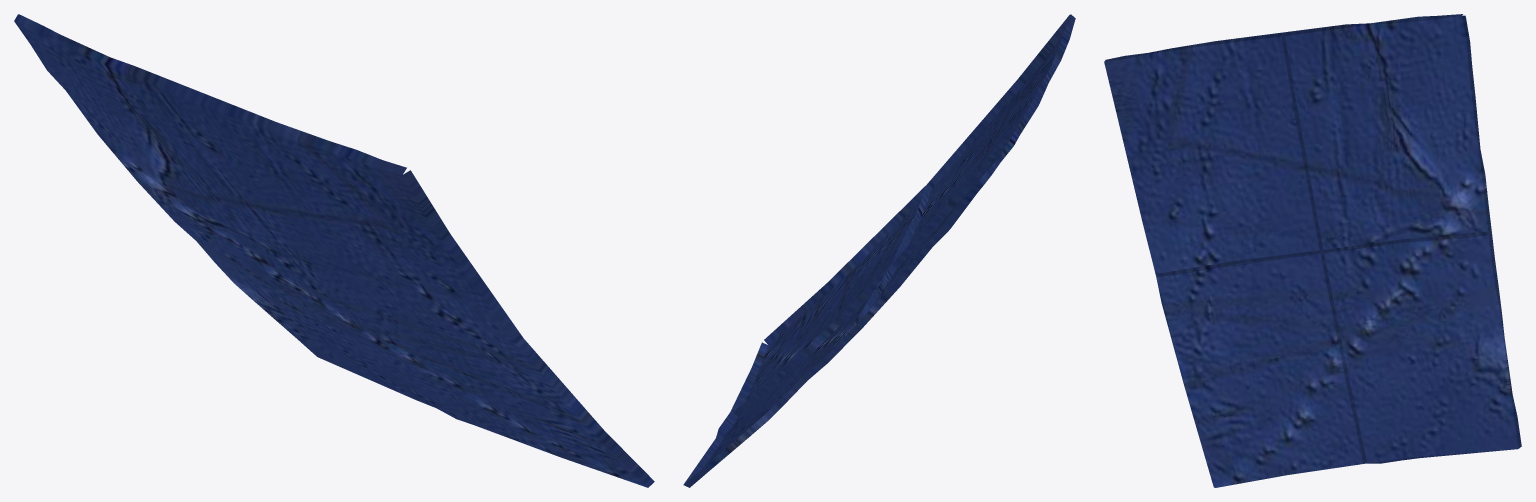
3 renders of one model, left to right at view 1: azimuth 30°, elevation 25°; view 2: azimuth 150°, elevation 25°; view 3: azimuth 270°, elevation 25°, orthographic. The views are drawn at different scales.
Size of the model in its own units: 1051465 by 986641 by 1166068.
1 material, 1 textured.
